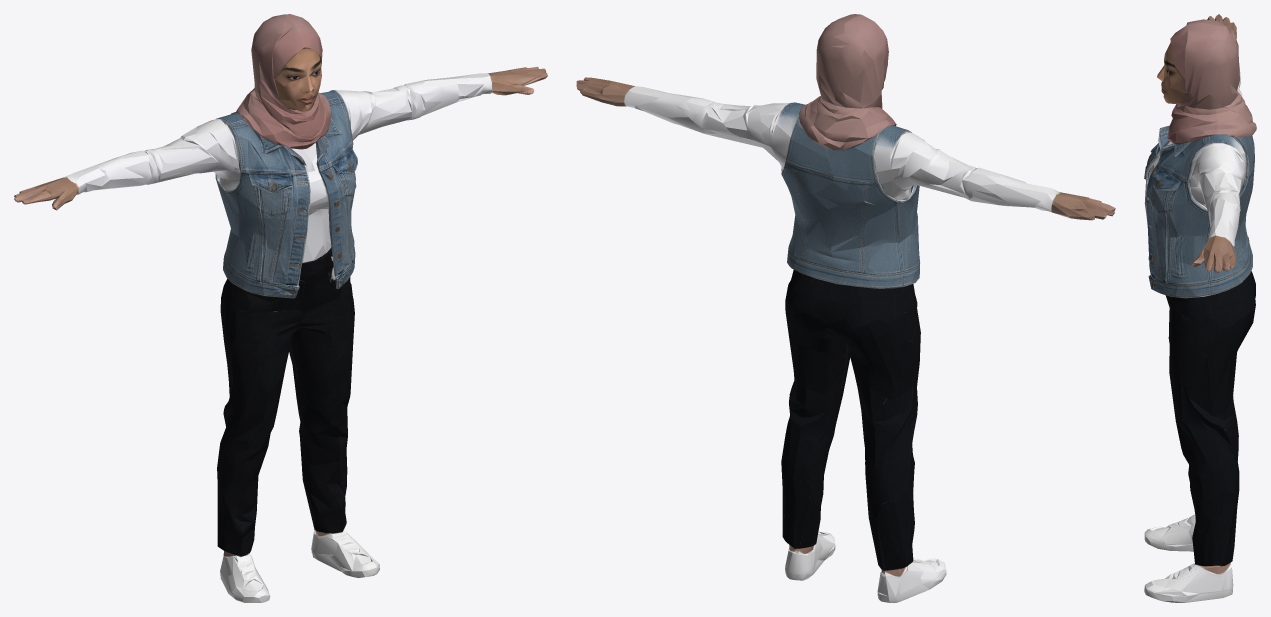
Rendered from image3d.glb.
3 renders of one model, left to right at view 1: azimuth 30°, elevation 25°; view 2: azimuth 150°, elevation 25°; view 3: azimuth 270°, elevation 25°, orthographic. The views are drawn at different scales.
Size of the model in its own units: 1.9 by 1.9 by 0.3537.
Materials: 1 (1 with a texture image).
